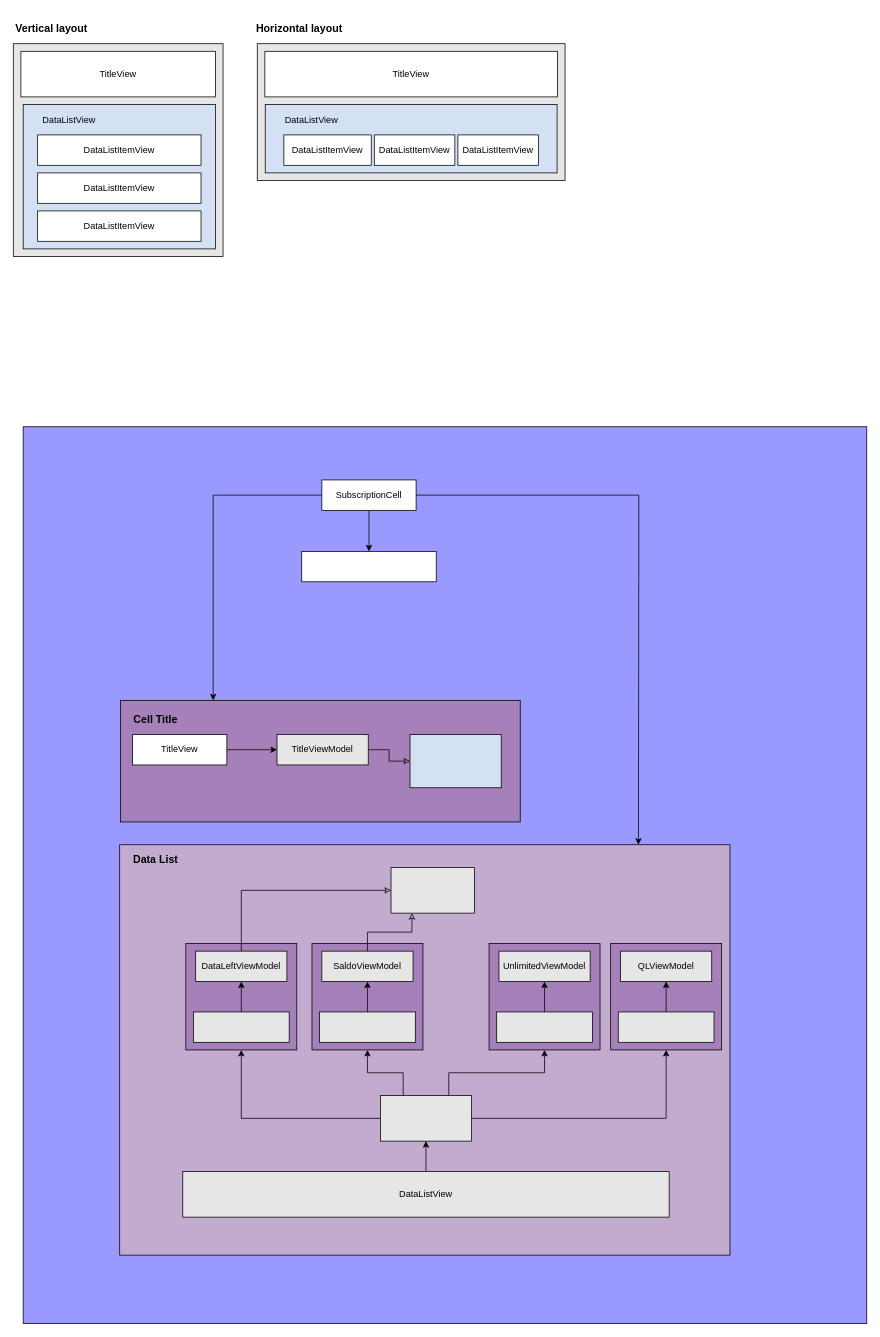
This 880x1337 diagram has some shape labels left out. The centre of each missing label's shape, as x and y in pixels:
"<CellTitle> - init(subscription)" goes at point 455,761.
"<DataListItem>" goes at point 432,890.
"DataListViewModel" goes at point 426,1118.
"DataView" goes at point 241,1026.
"QuickLinkView" goes at point 666,1026.
"SaldoView" goes at point 367,1026.
"SubscriptionCellViewModel" goes at point 368,566.
"UnlimitedView" goes at point 544,1026.
